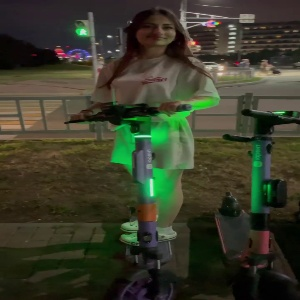human on a scooter: (63, 1, 222, 300)
